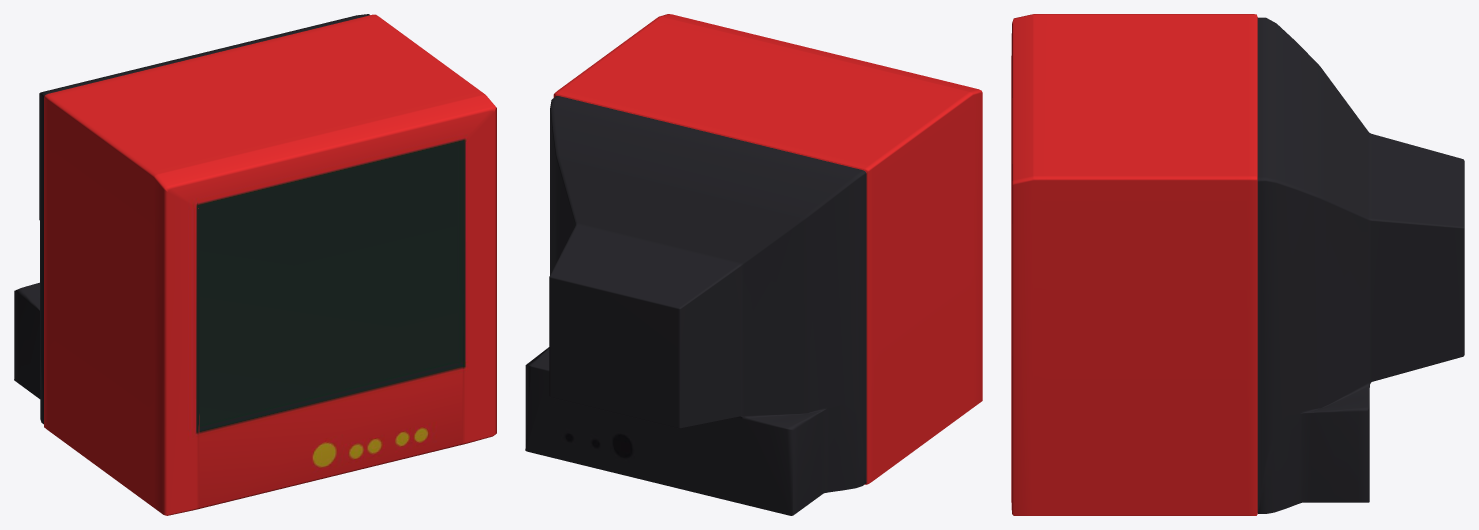
File: SM_CRTV.fbx
The picture shows the model from 3 angles, left to right: view 1: azimuth 30°, elevation 25°; view 2: azimuth 150°, elevation 25°; view 3: azimuth 270°, elevation 25°; orthographic projection. The views are drawn at different scales.
Visible parts, largest first — view 1: SM_CRT_TV, SM_CRT_TV.001; view 2: SM_CRT_TV; view 3: SM_CRT_TV.
Part boxes in pixels (x1,y1,x2,y2): SM_CRT_TV: (14,14,496,515); SM_CRT_TV.001: (199,145,462,430); SM_CRT_TV: (525,14,982,515); SM_CRT_TV: (1011,14,1464,515).
Bounding box in the file's own units: 47.47 × 46.62 × 55.01.
